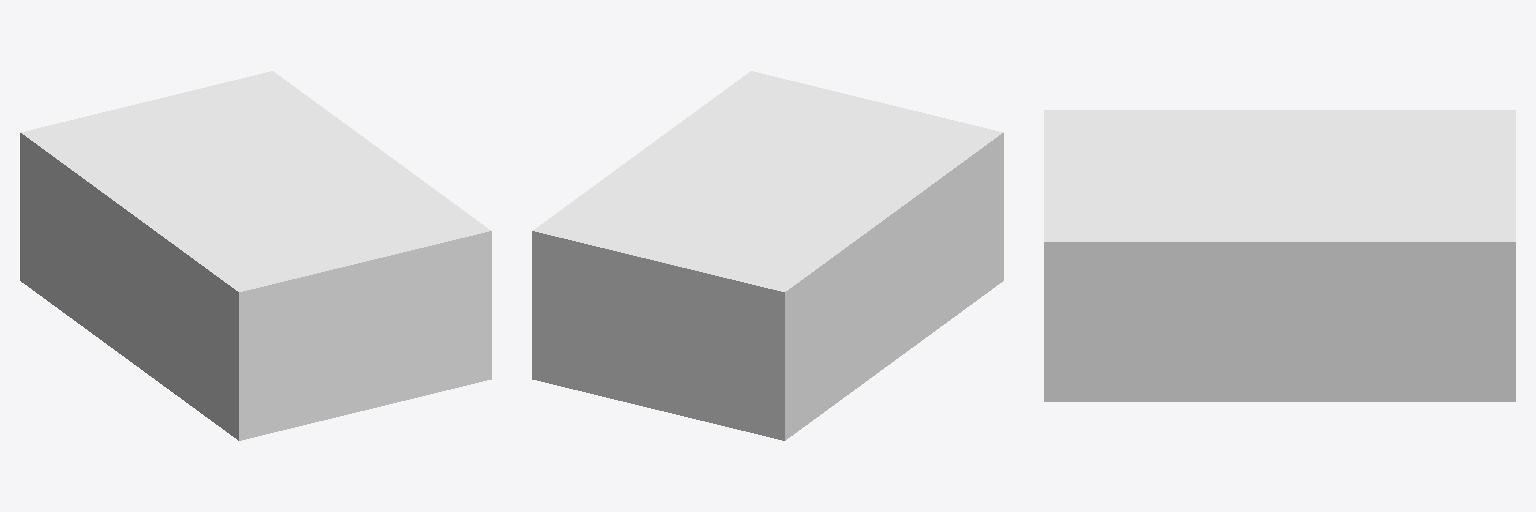
URDF robot description (urdf_robot):
<?xml version="1.0" ?>
<robot name="urdf_robot">
  <link name="base_link">
    <inertial>
      <origin rpy="0 0 0" xyz="0 0 0"/>
       <mass value="100"/>
       <inertia ixx="1" ixy="0" ixz="0" iyy="1" iyz="0" izz="1"/>
    </inertial>
    <visual>
      <origin rpy="0 0 0" xyz="0 0 0"/>
       <geometry>
        <box size=".8 1.2 .45" />
       </geometry>
      <material name="white">
        <color rgba="1 1 1 1"/>
      </material>
    </visual>
    <collision>
      <origin rpy="0 0 0" xyz="0 0 0"/>
       <geometry>
        <box size=".8 1.2 .45" />
       </geometry>
    </collision>
  </link>
</robot>

--- Facts derived from the render (not from the file) ---
3 views of the same robot in one strip: view 1: azimuth 30°, elevation 25°; view 2: azimuth 150°, elevation 25°; view 3: azimuth 270°, elevation 25° (orthographic).
Robot: urdf_robot — 1 links, 0 joints (none); root link base_link; default pose: all joints at 0.
Links seen in each view (by area): view 1: base_link; view 2: base_link; view 3: base_link.
Link boxes in pixels (bbox=[...]): base_link: bbox=[20, 71, 491, 440]; base_link: bbox=[532, 71, 1003, 440]; base_link: bbox=[1044, 110, 1515, 401].
Bounding box of the posed robot: 0.8 × 1.2 × 0.45 m (x, y, z).
Geometry: primitives only (box / cylinder / sphere), no mesh files.